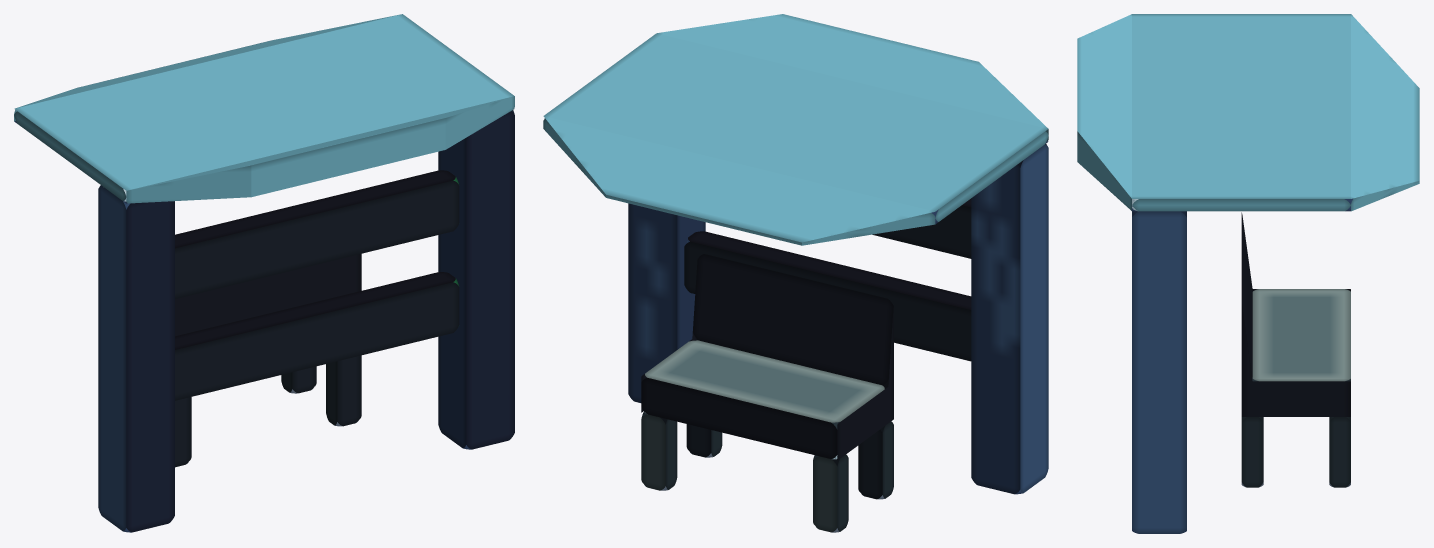
The model's file is Sem título.obj.
3 views of the same model, side by side, from view 1: azimuth 30°, elevation 25°; view 2: azimuth 150°, elevation 25°; view 3: azimuth 270°, elevation 25° (orthographic). The views are drawn at different scales.
Parts seen in each view (by area): view 1: cuboid; view 2: cuboid; view 3: cuboid.
Part boxes in pixels (box(x1,y1,x2,y2)): cuboid: box(14, 14, 514, 532); cuboid: box(543, 14, 1048, 532); cuboid: box(1077, 14, 1419, 533).
Size of the model in its own units: 2 by 1.8 by 1.56.
